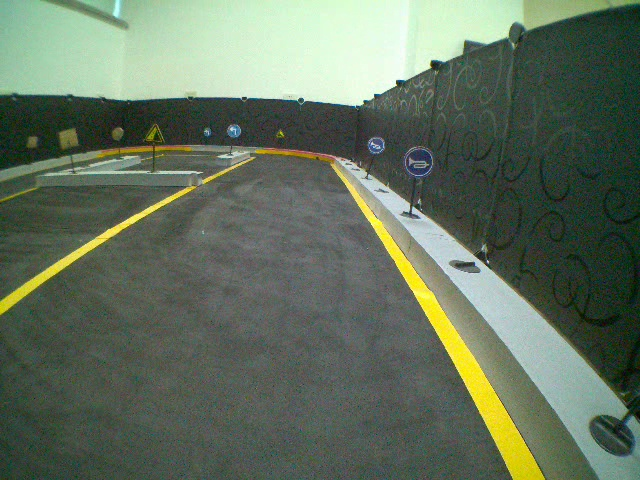fast: (142, 123, 166, 145)
horn: (403, 145, 435, 177), (365, 137, 386, 155)
turn: (225, 122, 242, 138)
